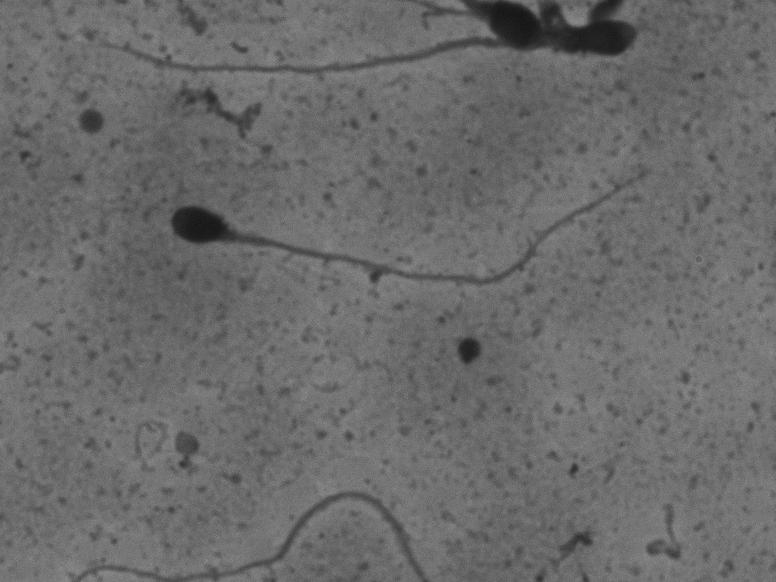Normal: (162, 112, 659, 307)
